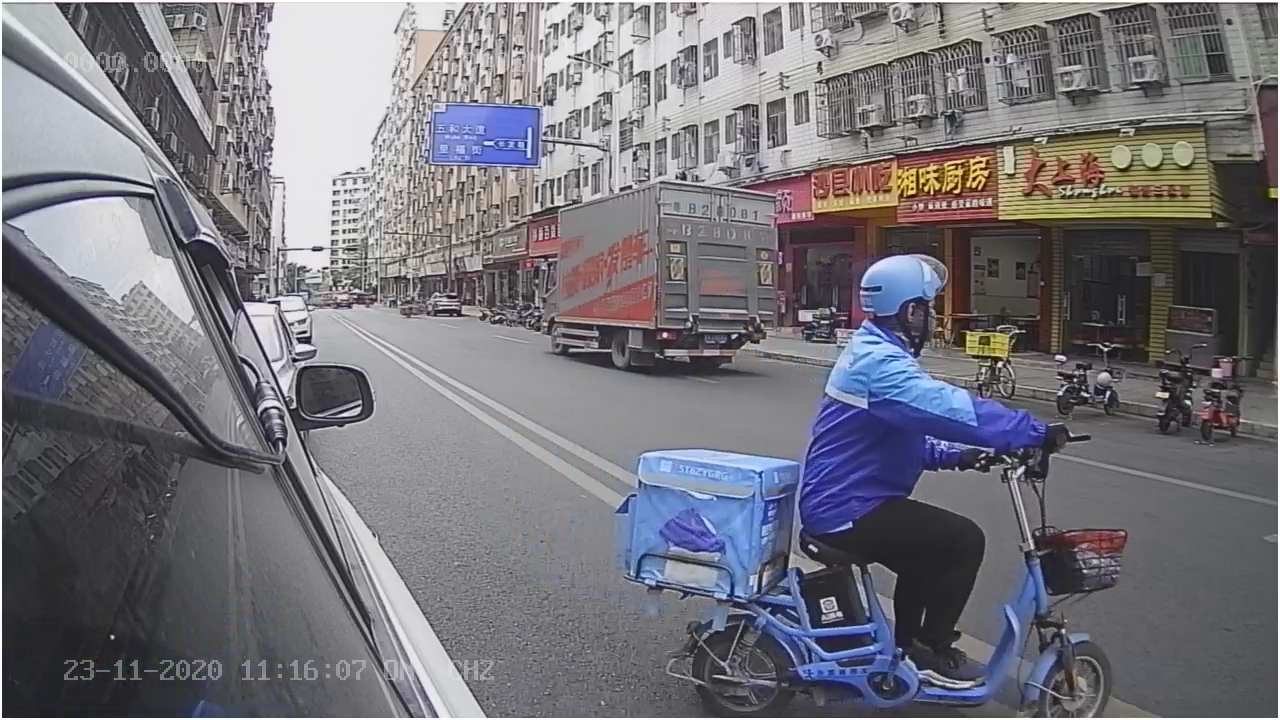person: (810, 251, 1079, 438)
